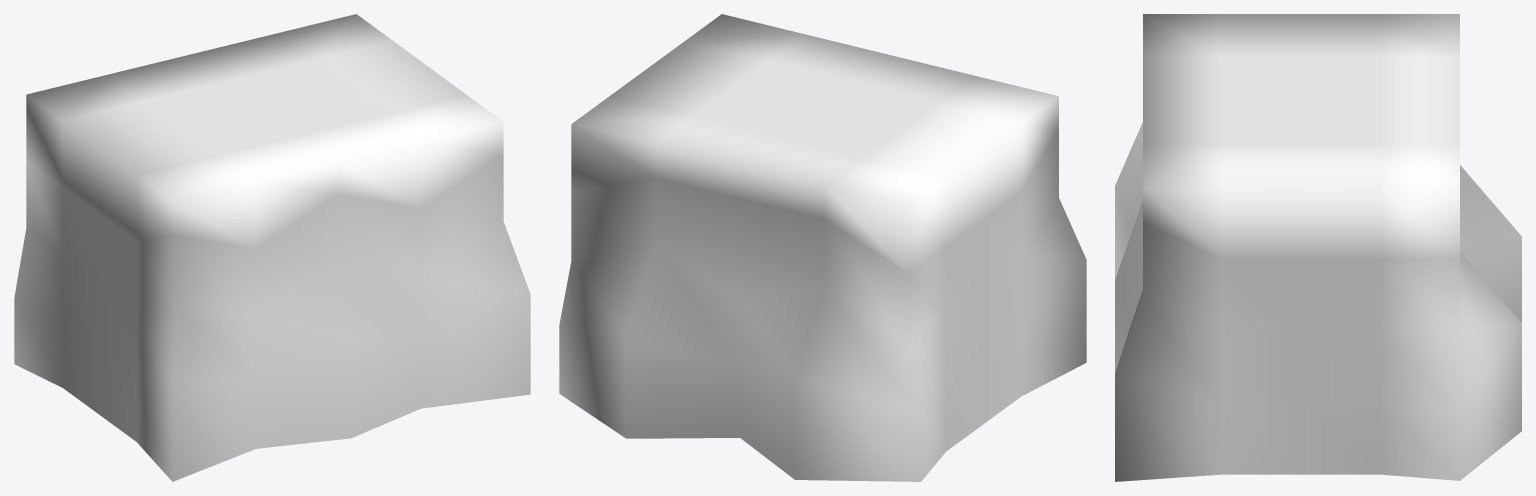
File: water1.obj
3 renders of one model, left to right at view 1: azimuth 30°, elevation 25°; view 2: azimuth 150°, elevation 25°; view 3: azimuth 270°, elevation 25°, orthographic. The views are drawn at different scales.
Parts seen in each view (by area): view 1: water1; view 2: water1; view 3: water1.
Boxes of the visible parts, x1,y1,x2,y2 form: water1: [14, 14, 530, 481]; water1: [559, 14, 1086, 481]; water1: [1115, 14, 1521, 481].
Bounding box in the file's own units: 89.88 × 64 × 82.17.
1 material, 1 textured.
